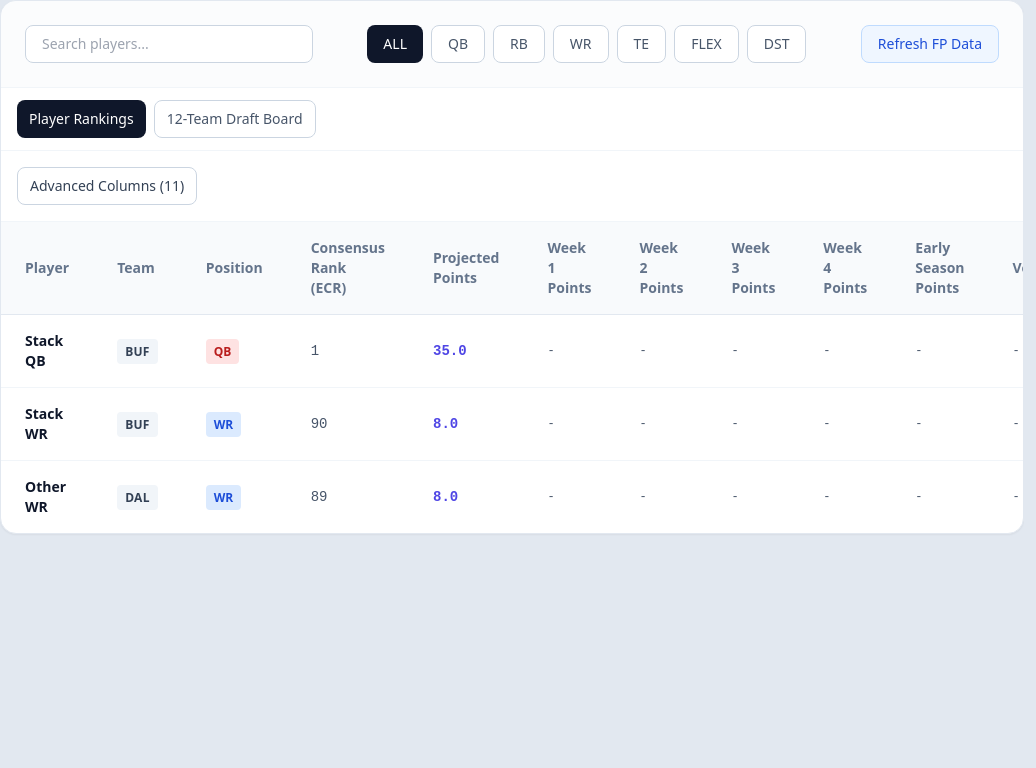
Test: DashboardClient › shows a Stack badge when a recommendation completes a QB/WR or QB/TE stack
The width and height of the screenshot is (1036, 768).
Click the tab with test id "tab-draft-board" at (235, 119), box [154, 100, 316, 138]
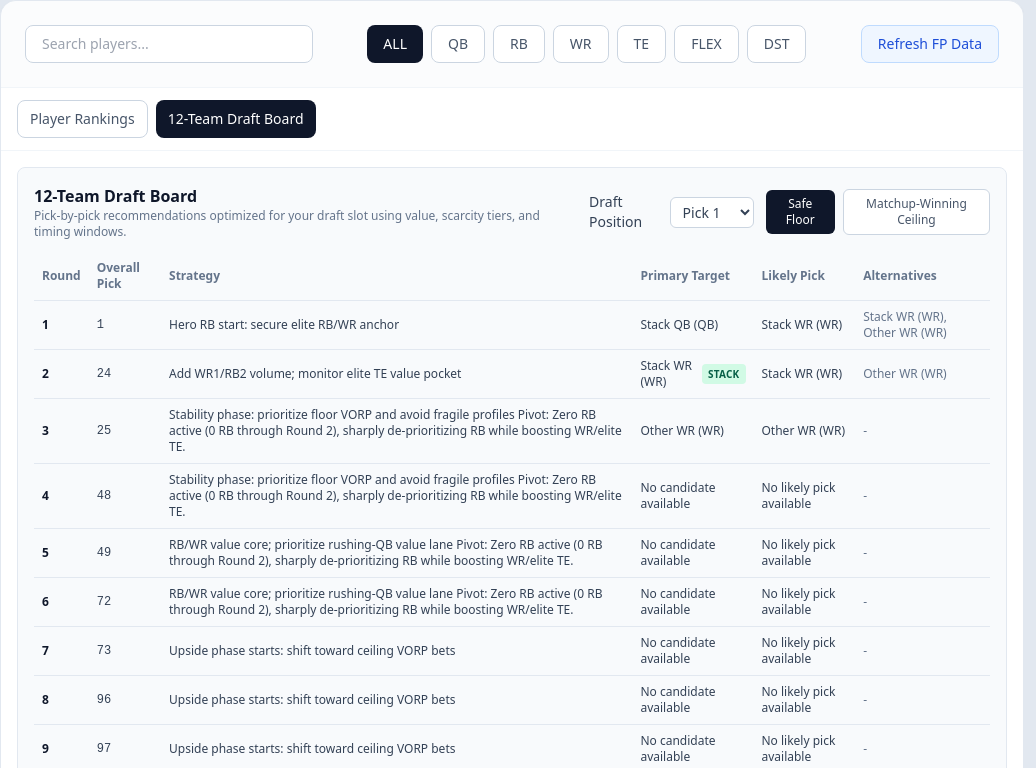
Now the cell with test id "draft-board-primary-1" reads "Stack QB (QB)", box [640, 316, 718, 333]
Now the cell with test id "draft-board-primary-2" shows "Stack WR (WR)", box [640, 357, 692, 390]
Now the text with test id "draft-board-stack-badge-2" reads "Stack", box [708, 367, 740, 381]
